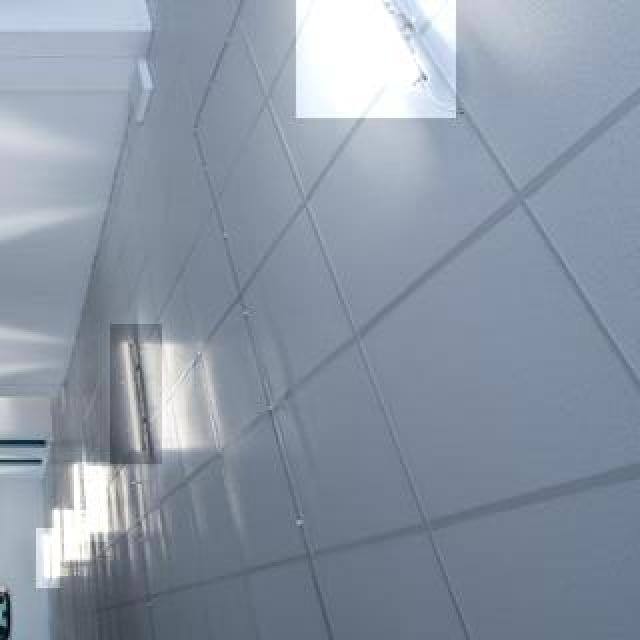fluorescent tube: (330, 0, 424, 68), (106, 323, 149, 454)
